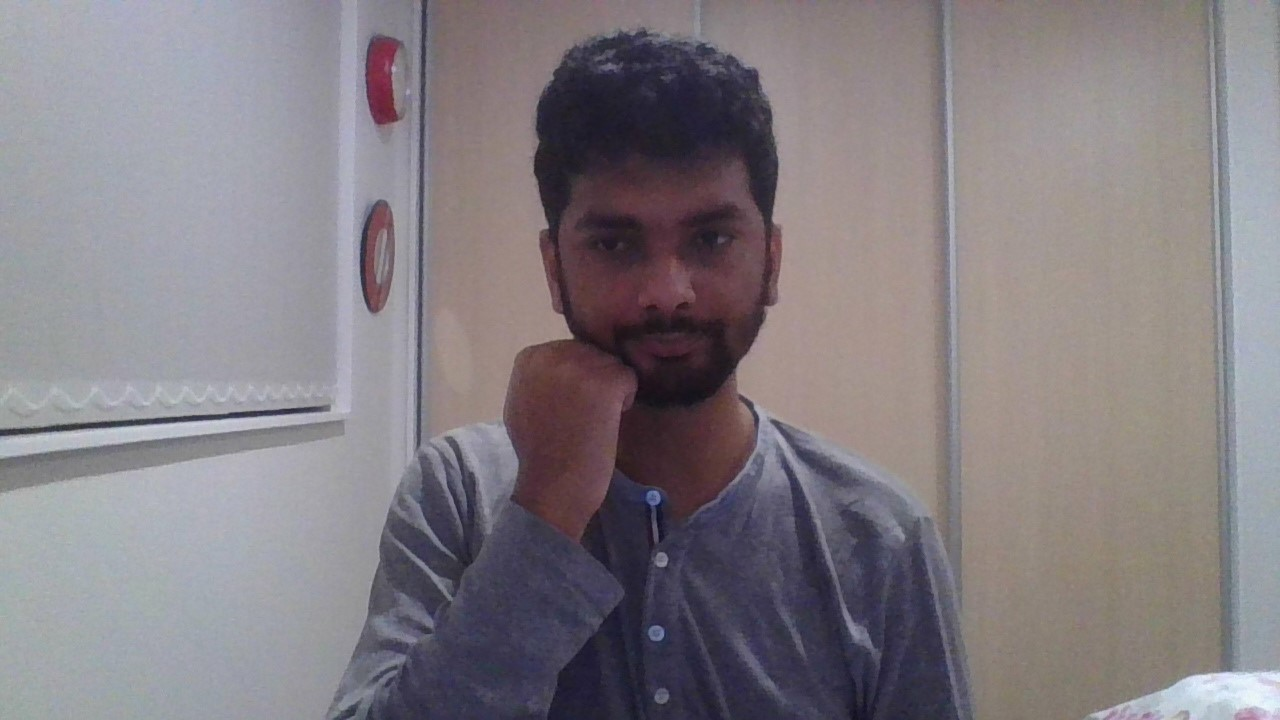day: (504, 339, 638, 542)
